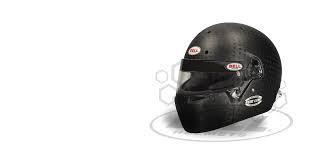helmet: (177, 20, 285, 132)
